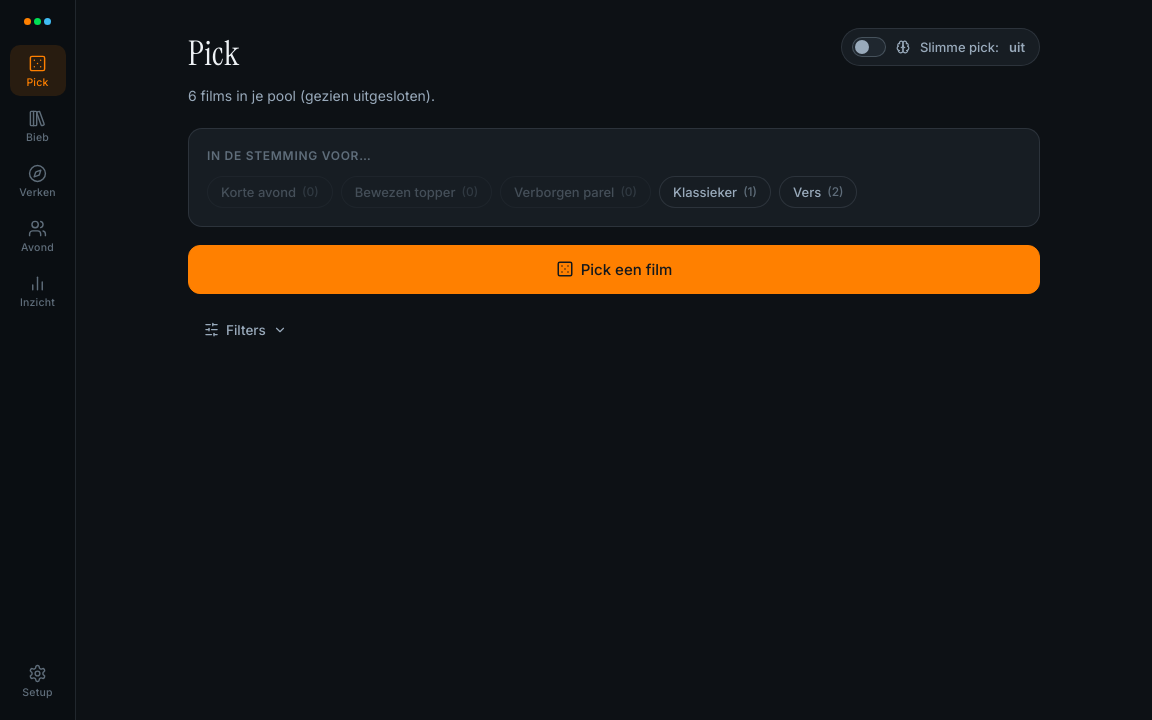
Test: V2 smoke › bieb: periode-filter werkt
This screenshot has width=1152, height=720.
Click the button labelled "Bieb".
click(38, 126)  # box [10,100,66,151]
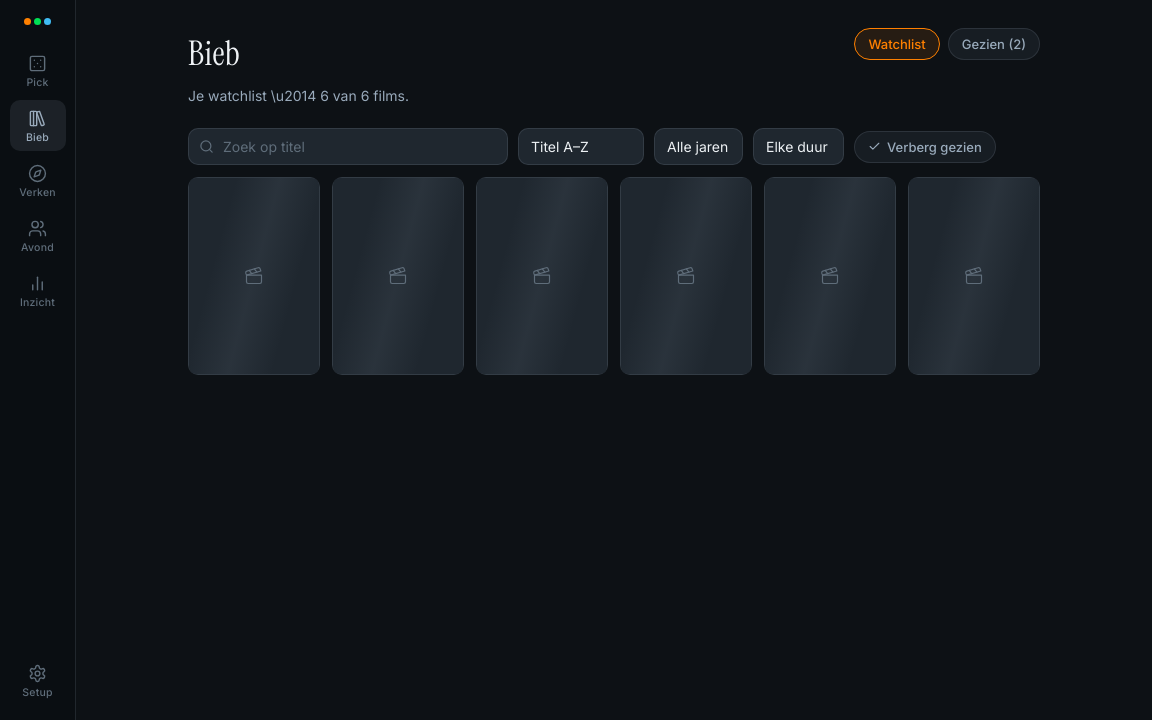
Select "Jaren '70" in the dropdown named "Periode" at (698, 147), box [654,128,743,165]
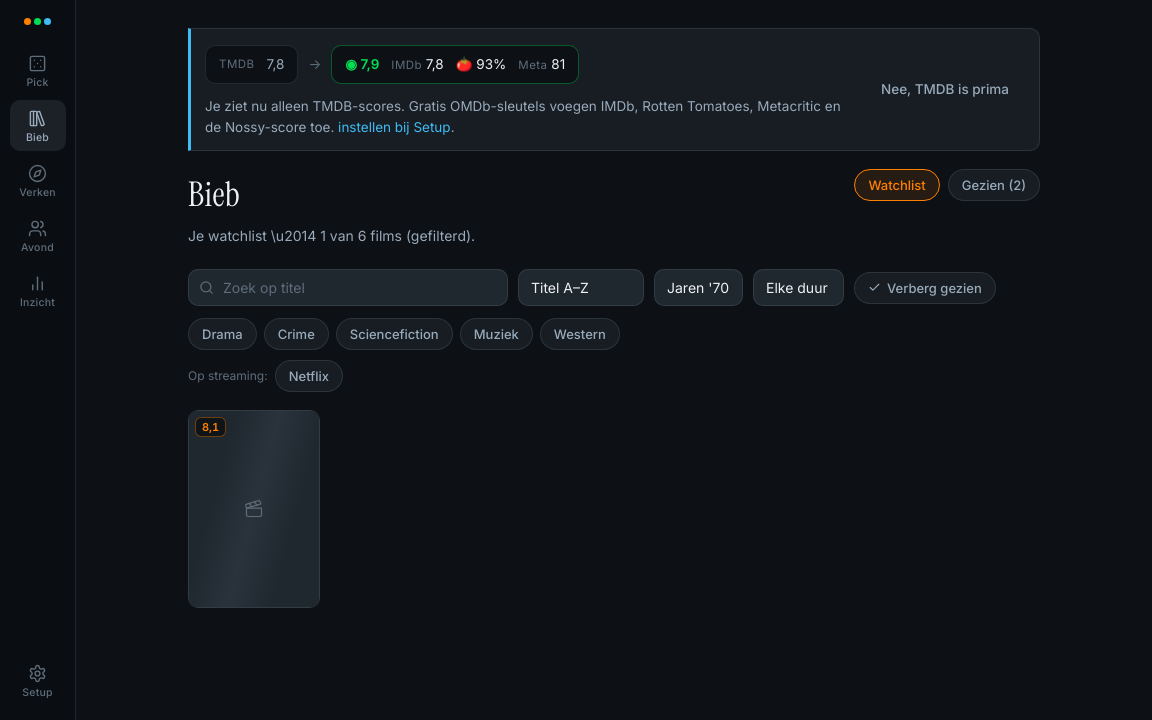
Now the text "1 van 6 films (gefilterd)" is shown, box [188,226,475,247]
